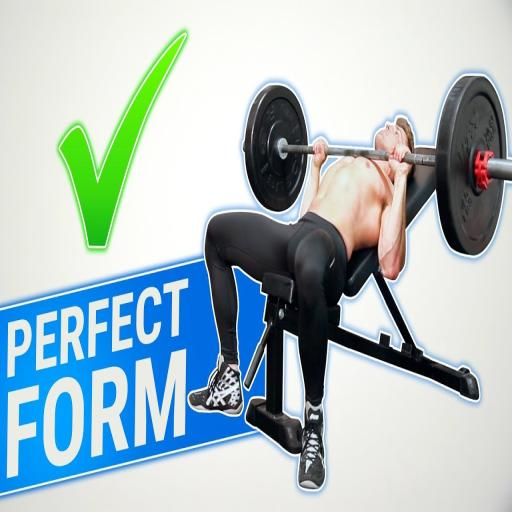exercise: (186, 113, 417, 494)
